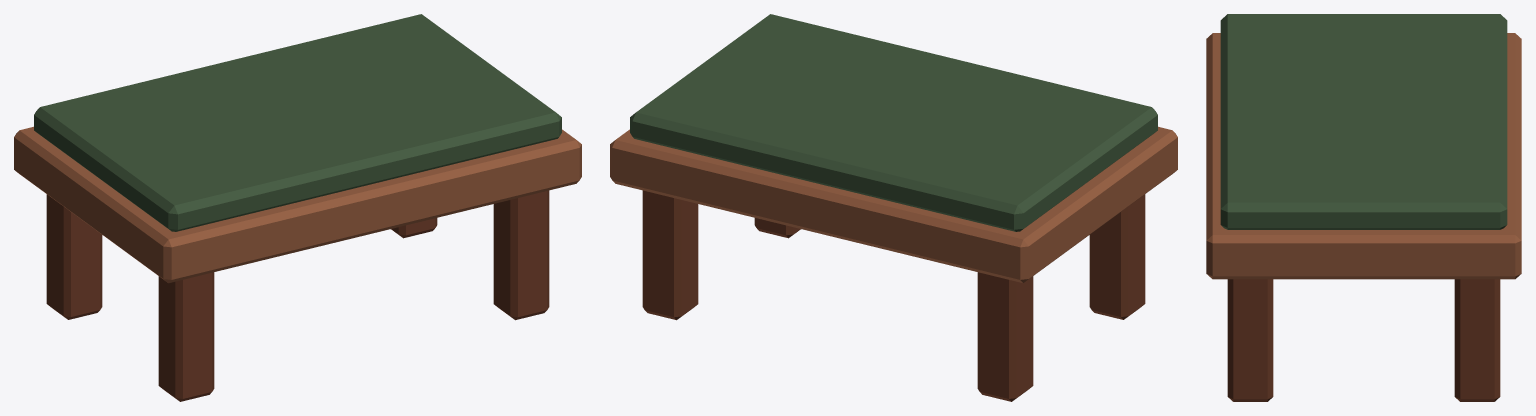
The model's file is foot_support.glb.
3 renders of one model, left to right at view 1: azimuth 30°, elevation 25°; view 2: azimuth 150°, elevation 25°; view 3: azimuth 270°, elevation 25°, orthographic.
Visible parts, largest first — view 1: Cushion, Seat, Leg, Leg_002, Leg_001, Leg_003; view 2: Cushion, Seat, Leg_001, Leg_003, Leg, Leg_002; view 3: Cushion, Seat, Leg_002, Leg_003.
Part boxes in pixels (box(x1,y1,x2,y2)): Cushion: box(34, 14, 561, 231); Seat: box(14, 126, 581, 283); Leg: box(158, 272, 214, 401); Leg_002: box(493, 190, 549, 320); Leg_001: box(46, 194, 102, 319); Leg_003: box(391, 218, 437, 238); Cushion: box(630, 14, 1157, 231); Seat: box(610, 126, 1177, 283); Leg_001: box(977, 272, 1033, 401); Leg_003: box(642, 190, 698, 320); Leg: box(1089, 194, 1145, 319); Leg_002: box(754, 218, 800, 238); Cushion: box(1220, 14, 1507, 229); Seat: box(1206, 33, 1521, 279); Leg_002: box(1227, 279, 1273, 401); Leg_003: box(1454, 279, 1500, 401).
Size of the model in its own units: 0.7 by 0.3205 by 0.45.
